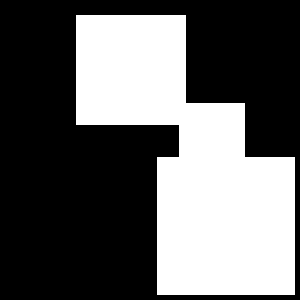circle: (157, 157, 295, 295), (76, 15, 186, 125), (179, 103, 245, 169)
rectangle: (202, 241, 240, 279)
